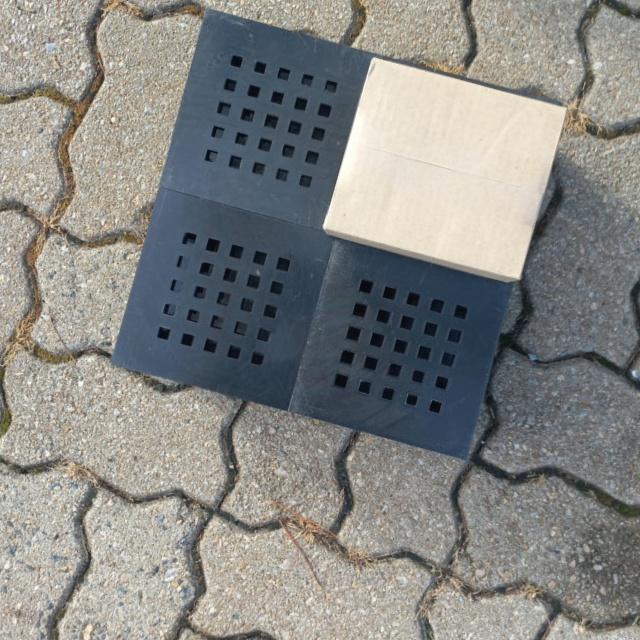box: (318, 50, 573, 289)
pallet: (97, 2, 572, 468)
